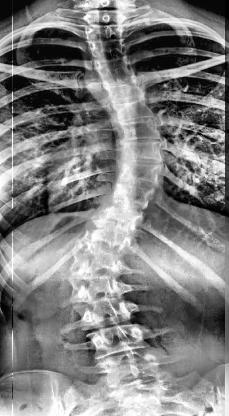Vertebrae: (64, 243, 130, 273), (76, 221, 146, 249), (63, 276, 129, 300), (93, 209, 156, 233), (104, 184, 167, 208), (77, 302, 139, 326), (88, 328, 154, 350), (91, 57, 143, 83), (114, 141, 164, 165), (113, 165, 167, 185), (102, 80, 150, 102), (119, 119, 169, 140), (86, 38, 132, 60), (110, 100, 158, 120), (88, 24, 128, 40)
